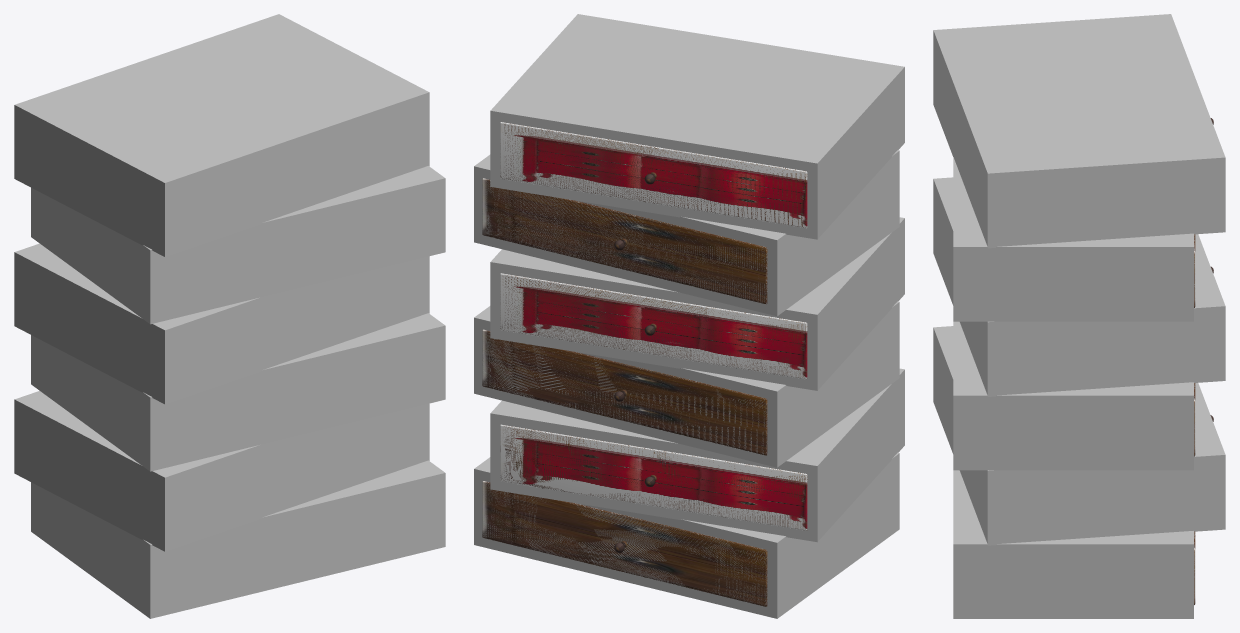
3 views of the same model, side by side, from view 1: azimuth 30°, elevation 25°; view 2: azimuth 150°, elevation 25°; view 3: azimuth 270°, elevation 25° (orthographic). The views are drawn at different scales.
Visible parts, largest first — view 1: mesh3_mesh3-geometry, mesh10_mesh10-geometry, mesh8_mesh8-geometry, mesh5_mesh5-geometry, mesh7_mesh7-geometry, mesh12_mesh12-geometry; view 2: mesh1_mesh1-geometry, mesh3_mesh3-geometry, mesh6_mesh6-geometry, mesh8_mesh8-geometry, mesh10_mesh10-geometry, mesh5_mesh5-geometry, mesh7_mesh7-geometry, mesh12_mesh12-geometry, mesh2_mesh2-geometry; view 3: mesh3_mesh3-geometry, mesh7_mesh7-geometry, mesh5_mesh5-geometry, mesh8_mesh8-geometry, mesh10_mesh10-geometry, mesh12_mesh12-geometry, mesh6_mesh6-geometry.
Boxes of the visible parts, x1,y1,x2,y2 form: mesh3_mesh3-geometry: (14,14,429,256); mesh10_mesh10-geometry: (14,391,429,551); mesh8_mesh8-geometry: (14,243,429,404); mesh5_mesh5-geometry: (31,166,445,324); mesh7_mesh7-geometry: (31,313,445,471); mesh12_mesh12-geometry: (31,460,445,618); mesh1_mesh1-geometry: (500,122,807,530); mesh3_mesh3-geometry: (490,14,904,239); mesh6_mesh6-geometry: (482,178,767,606); mesh8_mesh8-geometry: (490,217,904,390); mesh10_mesh10-geometry: (490,368,904,542); mesh5_mesh5-geometry: (474,150,899,316); mesh7_mesh7-geometry: (474,301,899,467); mesh12_mesh12-geometry: (474,452,899,618); mesh2_mesh2-geometry: (614,172,656,552); mesh3_mesh3-geometry: (933,14,1225,248); mesh7_mesh7-geometry: (953,321,1193,470); mesh5_mesh5-geometry: (953,157,1193,321); mesh8_mesh8-geometry: (933,177,1225,396); mesh10_mesh10-geometry: (933,326,1225,545); mesh12_mesh12-geometry: (953,470,1193,618); mesh6_mesh6-geometry: (1194,234,1195,604).
Bounding box in the file's own units: 0.5509 × 0.7176 × 0.4261.
